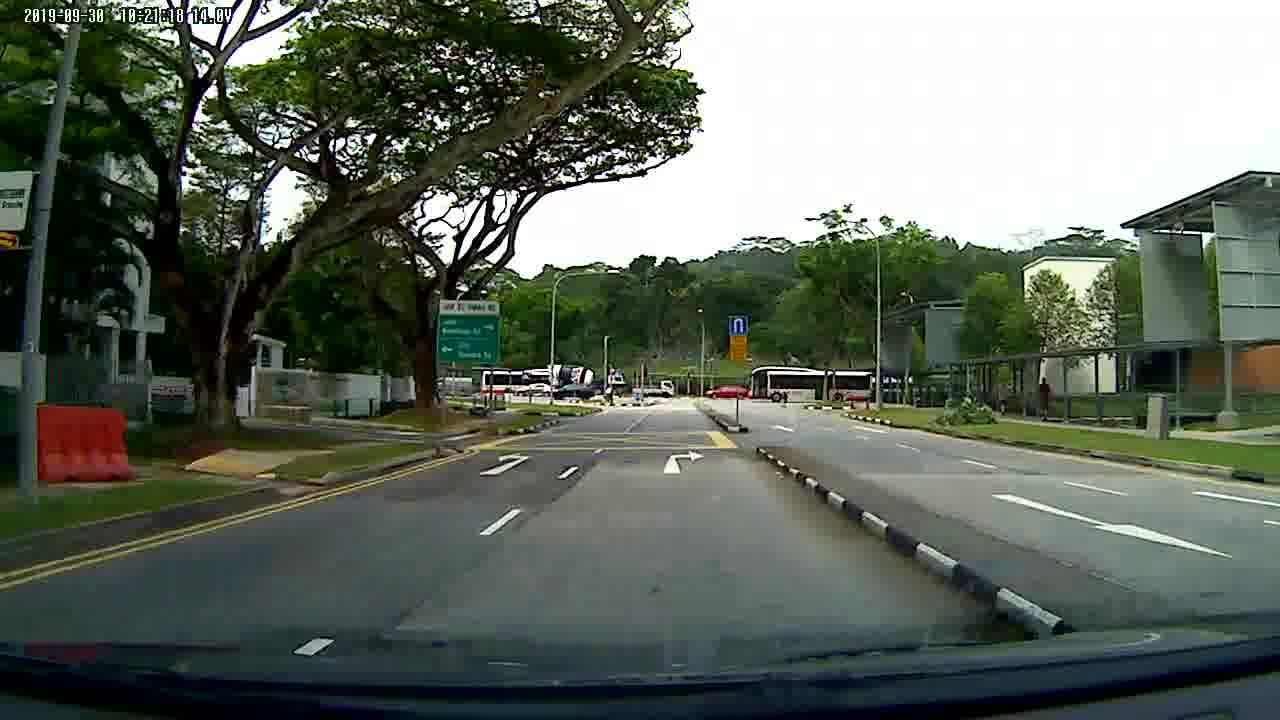bus: (750, 364, 877, 407)
car: (701, 385, 747, 400)
